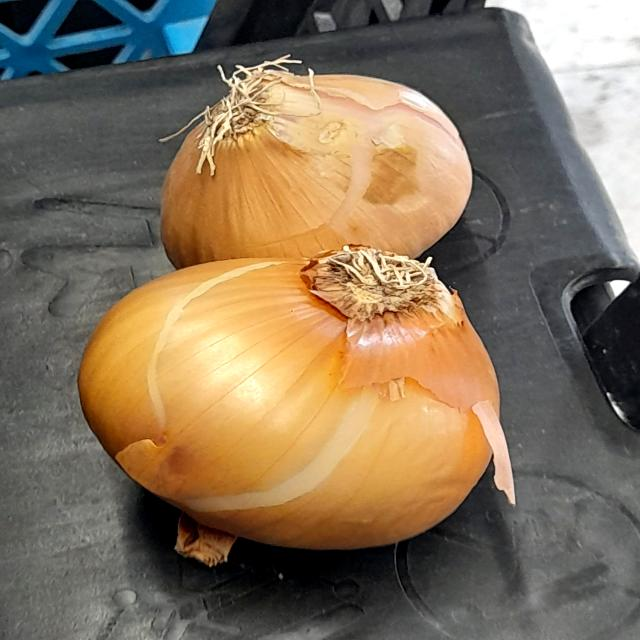onion: (56, 237, 530, 565), (134, 49, 489, 274)
